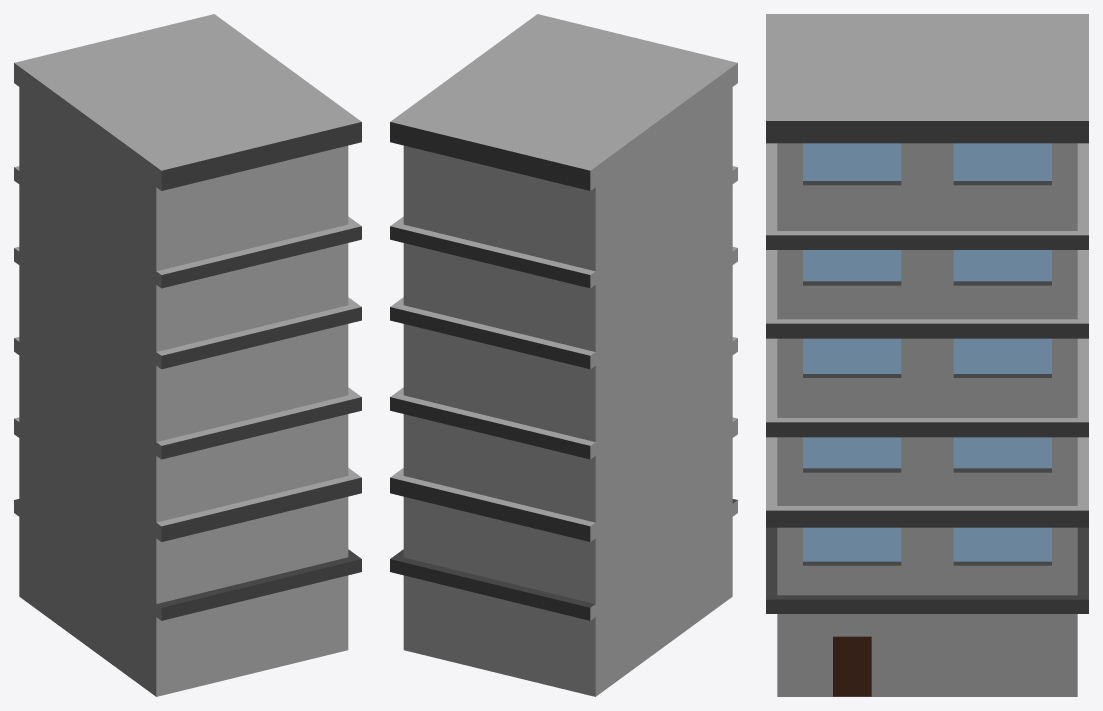
File: greyscale building 2.fbx
3 views of the same model, side by side, from view 1: azimuth 30°, elevation 25°; view 2: azimuth 150°, elevation 25°; view 3: azimuth 270°, elevation 25° (orthographic). The views are drawn at different scales.
Visible parts, largest first — view 1: Cube; view 2: Cube; view 3: Cube.
Part boxes in pixels (box(x1,y1,x2,y2)): Cube: box(14, 14, 361, 696); Cube: box(390, 14, 737, 696); Cube: box(766, 14, 1088, 696).
Bounding box in the file's own units: 209 × 527 × 266.
